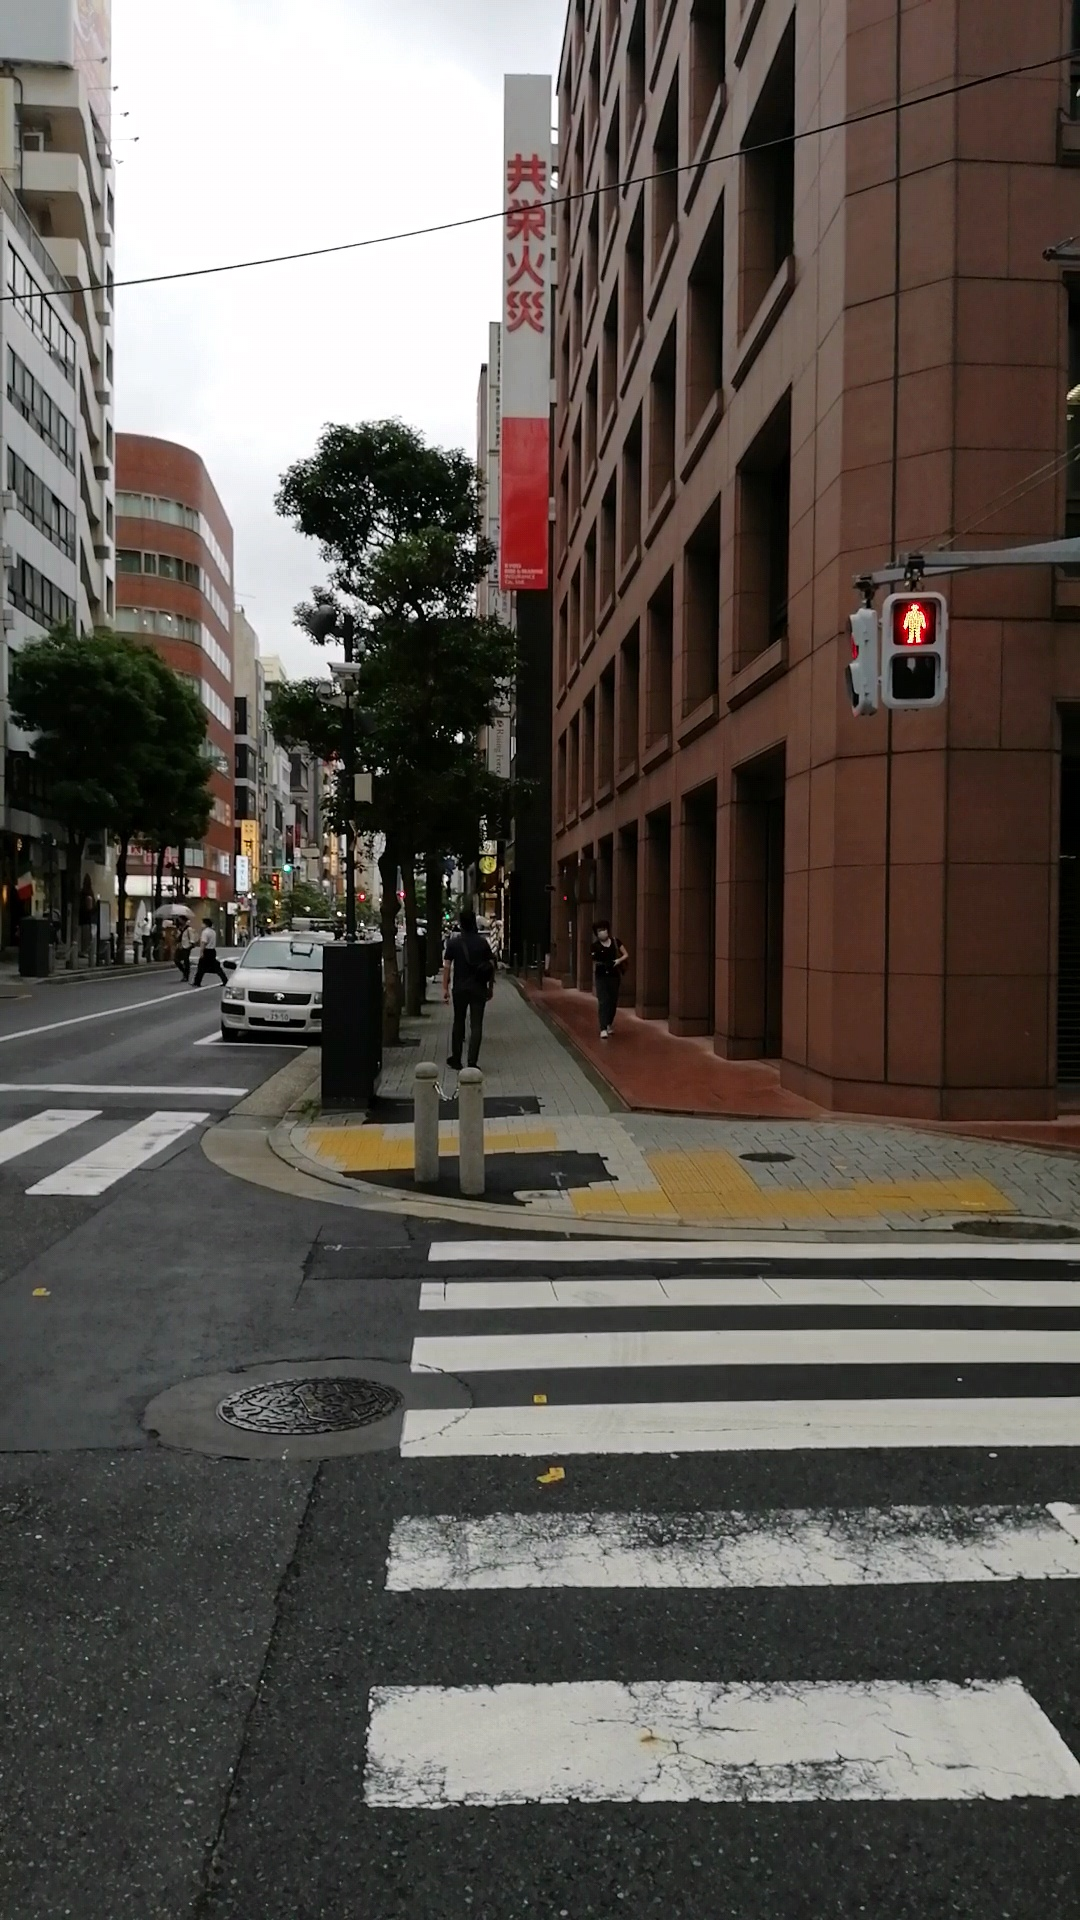red: (882, 589, 943, 708)
